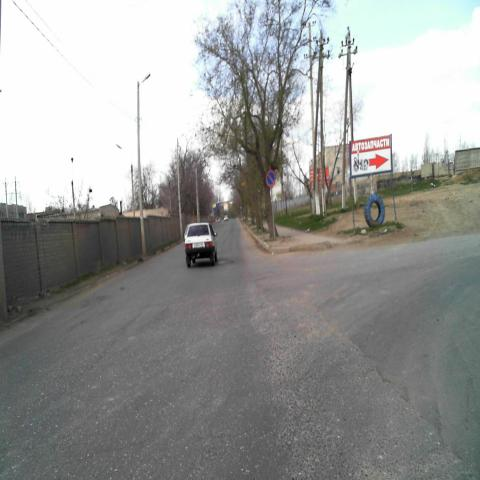3_28: (266, 170, 276, 186)
